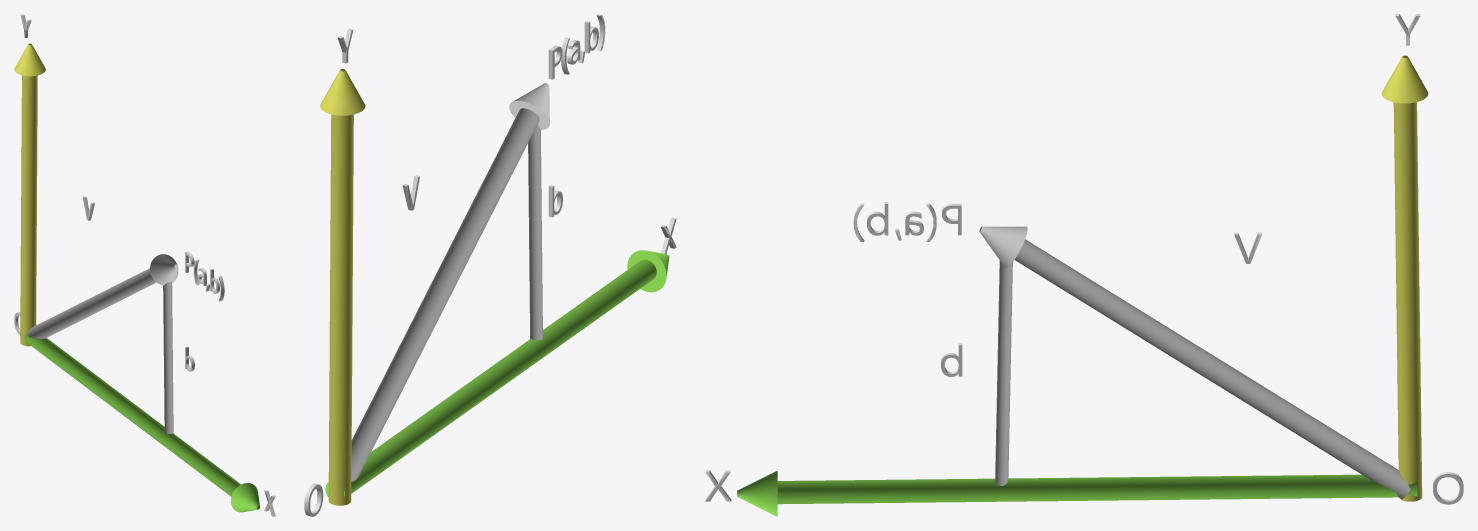
3 renders of one model, left to right at view 1: azimuth 30°, elevation 25°; view 2: azimuth 150°, elevation 25°; view 3: azimuth 270°, elevation 25°, orthographic. The views are drawn at different scales.
Visible parts, largest first — view 1: Cylinder.007, Cylinder.008, Cylinder.006, Cylinder.005, Cone.005, Cone.007, Cone.006; view 2: Cylinder.006, Cylinder.007, Cylinder.008, Cylinder.005, Cone.006, Cone.005, Cone.007; view 3: Cylinder.008, Cylinder.006, Cylinder.007, Cylinder.005, Cone.006, Cone.005, Cone.007.
Part boxes in pixels (box(x1,y1,x2,y2)): Cylinder.007: box(20, 75, 37, 346); Cylinder.008: box(20, 332, 240, 496); Cylinder.006: box(27, 268, 155, 338); Cylinder.005: box(163, 281, 173, 434); Cone.005: box(150, 254, 178, 285); Cone.007: box(231, 483, 259, 512); Cone.006: box(14, 43, 45, 76); Cylinder.006: box(351, 108, 539, 481); Cylinder.007: box(328, 114, 353, 505); Cylinder.008: box(325, 259, 656, 496); Cylinder.005: box(528, 124, 542, 339); Cone.006: box(320, 69, 365, 115); Cone.005: box(509, 83, 549, 129); Cone.007: box(627, 250, 669, 292); Cylinder.008: box(777, 474, 1417, 504); Cylinder.006: box(1014, 239, 1410, 498); Cylinder.007: box(1393, 102, 1422, 501); Cylinder.005: box(995, 260, 1012, 485); Cone.006: box(1381, 55, 1428, 103); Cone.005: box(979, 226, 1027, 267); Cone.007: box(737, 471, 777, 516).
Bounding box in the file's own units: 0.0213 × 0.2355 × 0.3256.
